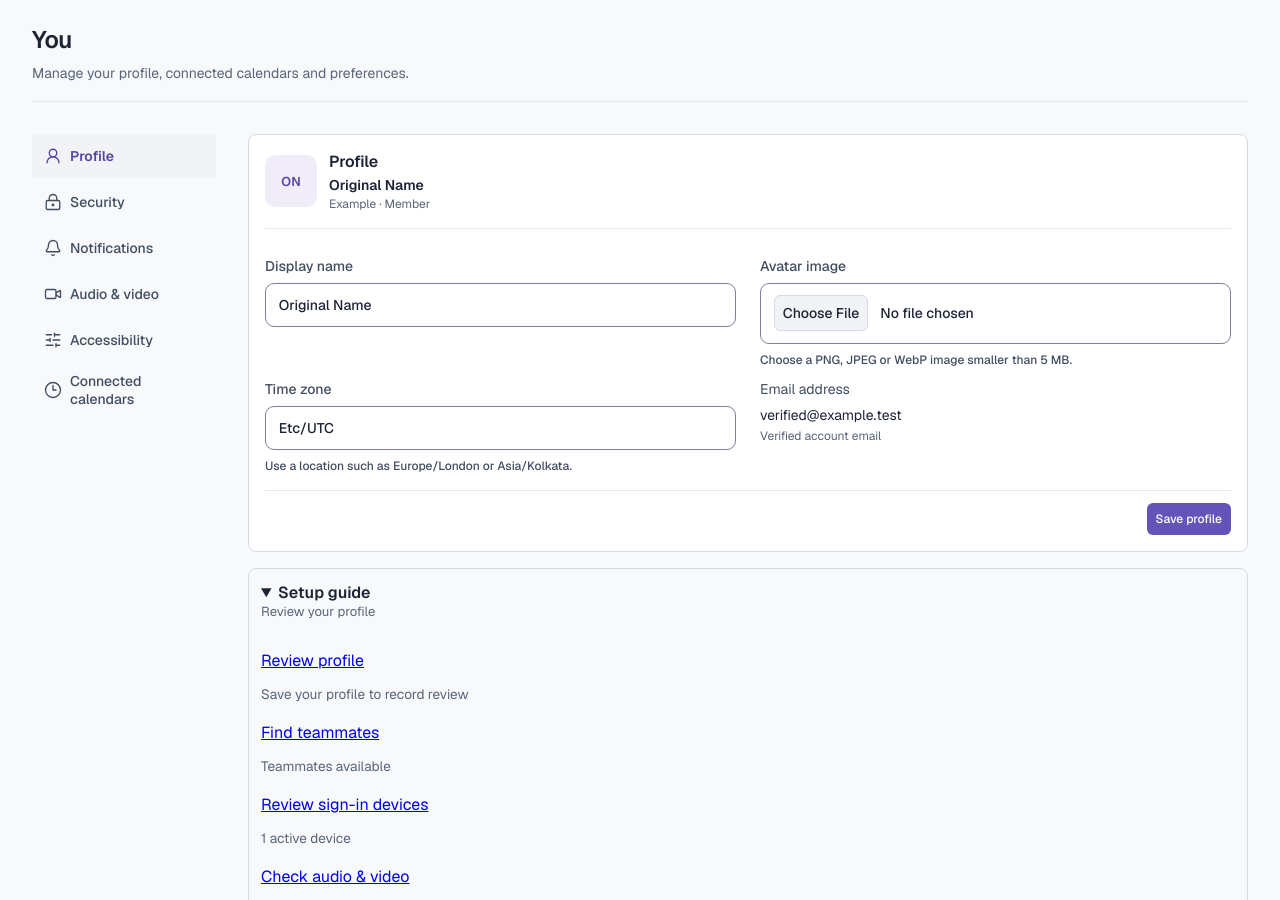
Test case: profile settings › renders the recovery email read-only and submits only the display name
The image size is (1280, 900).
Expected: the text "verified@example.test" is shown, 760,406 -> 902,424
Expected: the text "Verified account email" is shown, 760,428 -> 881,444
Replace the text in the field labelled "Display name" with "Updated Name": (500, 305) 265,283 -> 736,327
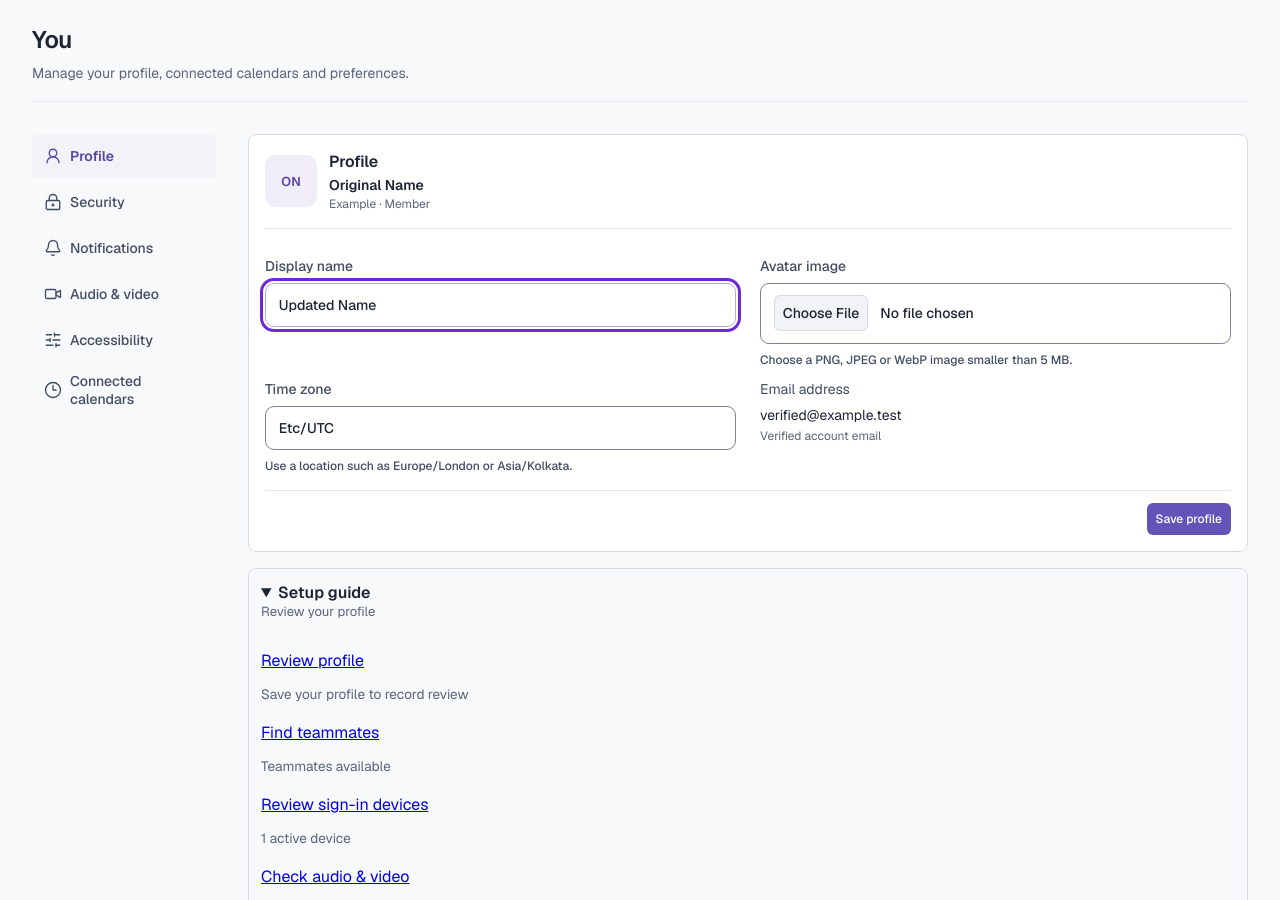
Click the button "Save profile": click(1189, 519) 1146,503 -> 1231,535
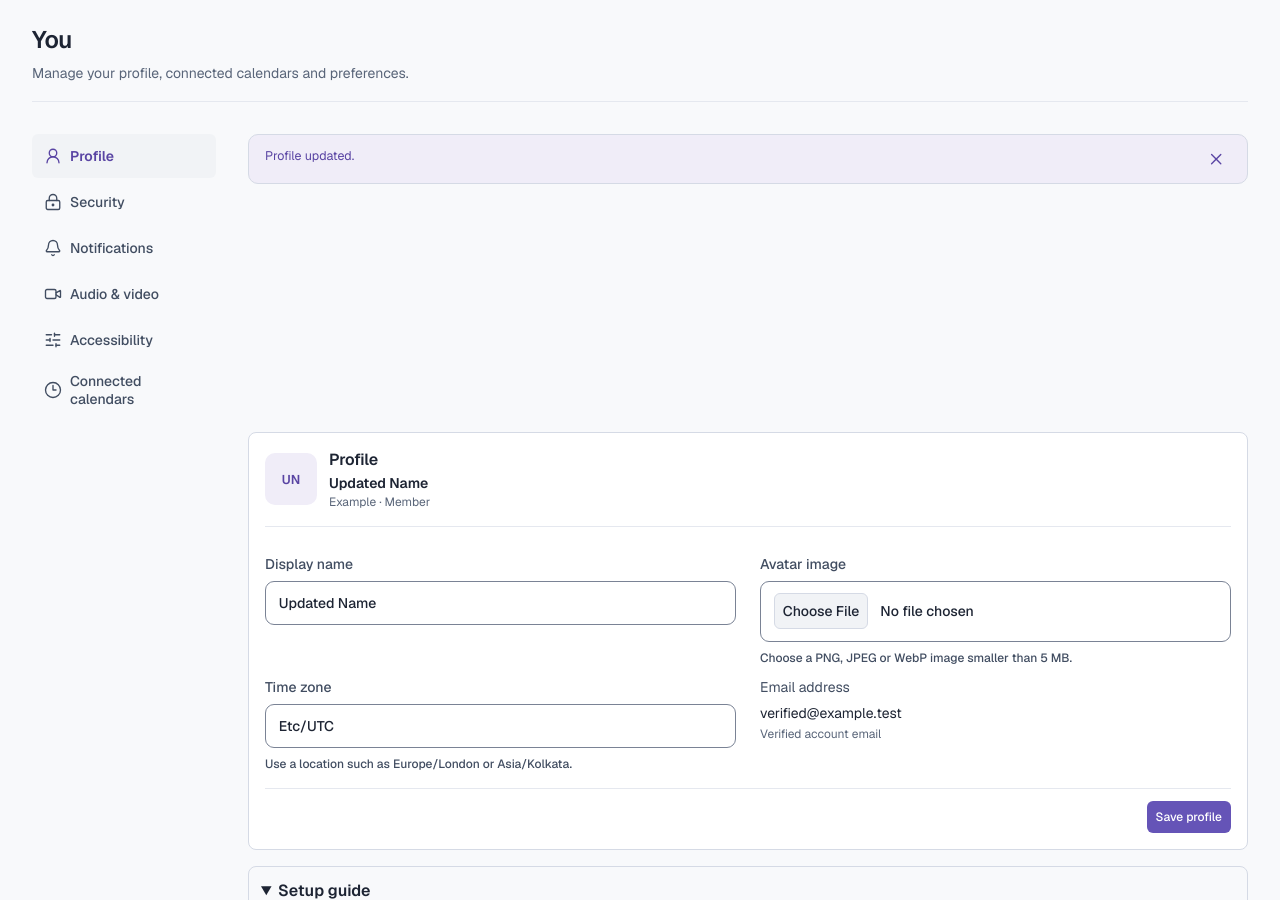
Expected: the text "Updated Name" is shown, 329,474 -> 430,492
